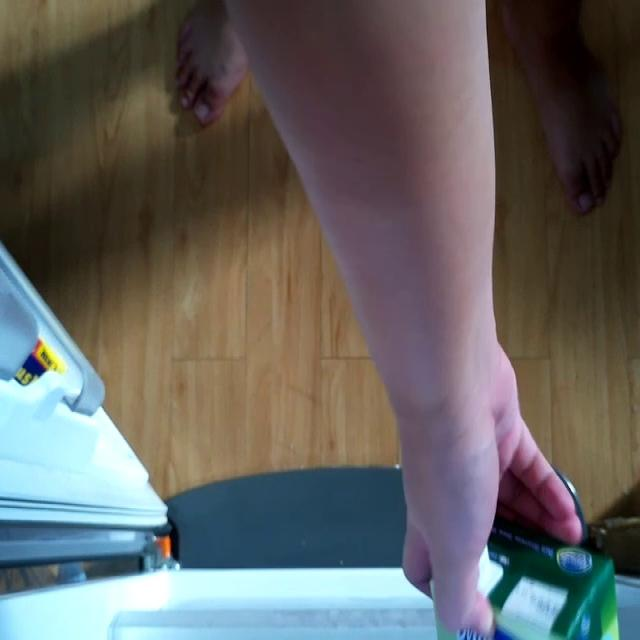milk: (430, 543, 618, 638)
